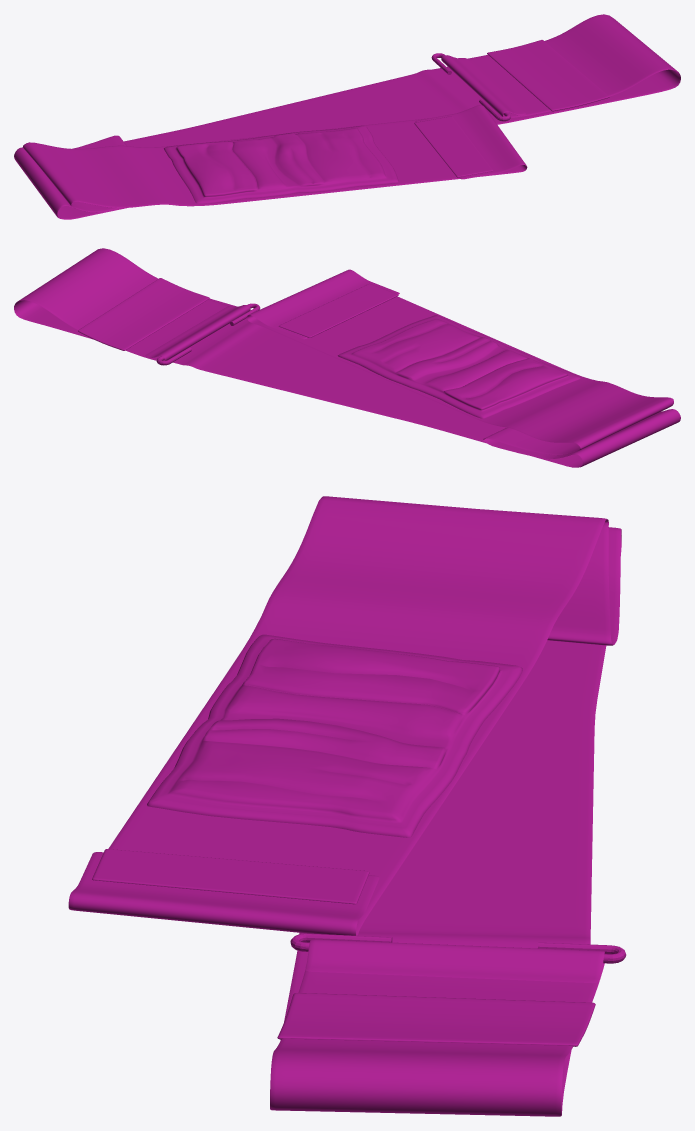
The model's file is BandageFlat4.FBX.
3 views of the same model, one above another, from view 1: azimuth 30°, elevation 25°; view 2: azimuth 150°, elevation 25°; view 3: azimuth 270°, elevation 25° (orthographic). The views are drawn at different scales.
Visible parts, largest first — view 1: BandageFlat4; view 2: BandageFlat4; view 3: BandageFlat4.
Part boxes in pixels (x1,y1,x2,y2): BandageFlat4: (14,14,680,219); BandageFlat4: (14,248,680,467); BandageFlat4: (68,496,626,1116).
Bounding box in the file's own units: 45.17 × 1.61 × 17.83.
